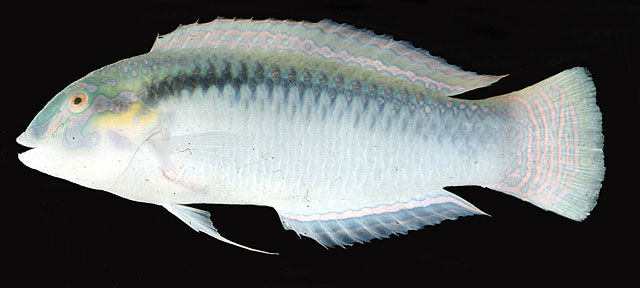fish: (15, 15, 607, 256)
